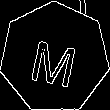M_N: (27, 28, 82, 87)
